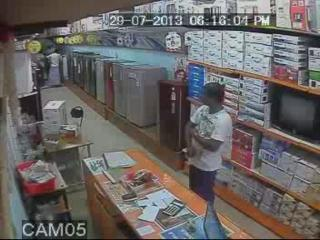Normal: (184, 82, 234, 232), (270, 88, 320, 146)
